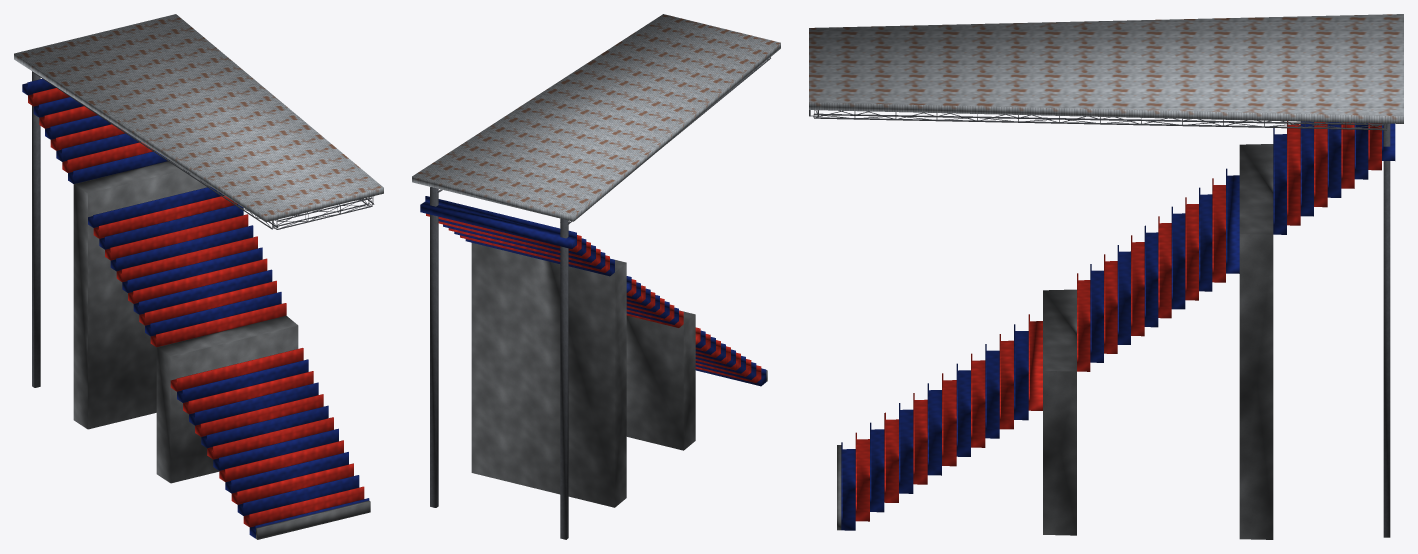
The model's file is bay_10m_stadium_curve6_roof.glb.
The picture shows the model from 3 angles, left to right: view 1: azimuth 30°, elevation 25°; view 2: azimuth 150°, elevation 25°; view 3: azimuth 270°, elevation 25°; orthographic projection. The views are drawn at different scales.
Visible parts, largest first — view 1: bay_10m_stadium_curve6_roof; view 2: bay_10m_stadium_curve6_roof; view 3: bay_10m_stadium_curve6_roof.
Part boxes in pixels (box(x1,y1,x2,y2)): bay_10m_stadium_curve6_roof: box(14, 14, 383, 539); bay_10m_stadium_curve6_roof: box(412, 14, 780, 539); bay_10m_stadium_curve6_roof: box(809, 14, 1403, 539).
Bounding box in the file's own units: 14.29 × 27.96 × 35.1.
Materials: 5 (5 with a texture image).
